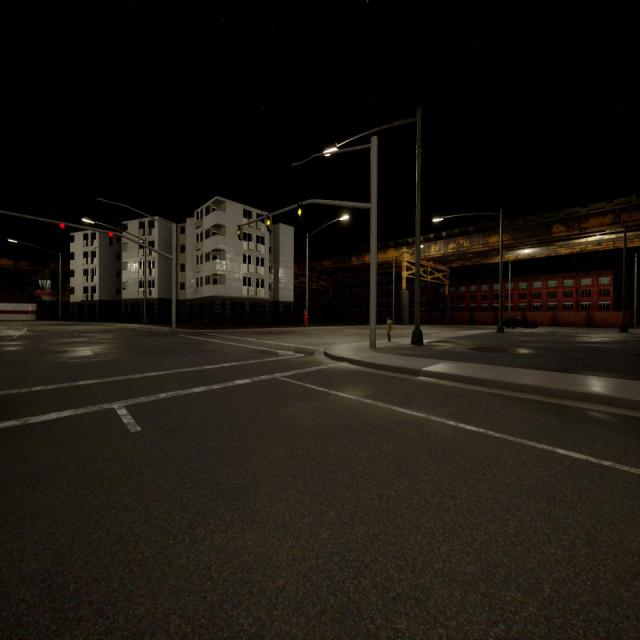Pedestrian: (387, 317, 392, 342), (303, 309, 308, 327)
Traffic_Signs: (28, 306, 32, 310)
Vehicle: (504, 318, 536, 328)
traffic_light: (267, 215, 272, 231), (238, 225, 242, 240), (109, 231, 113, 246), (60, 222, 64, 236), (298, 204, 302, 217)
